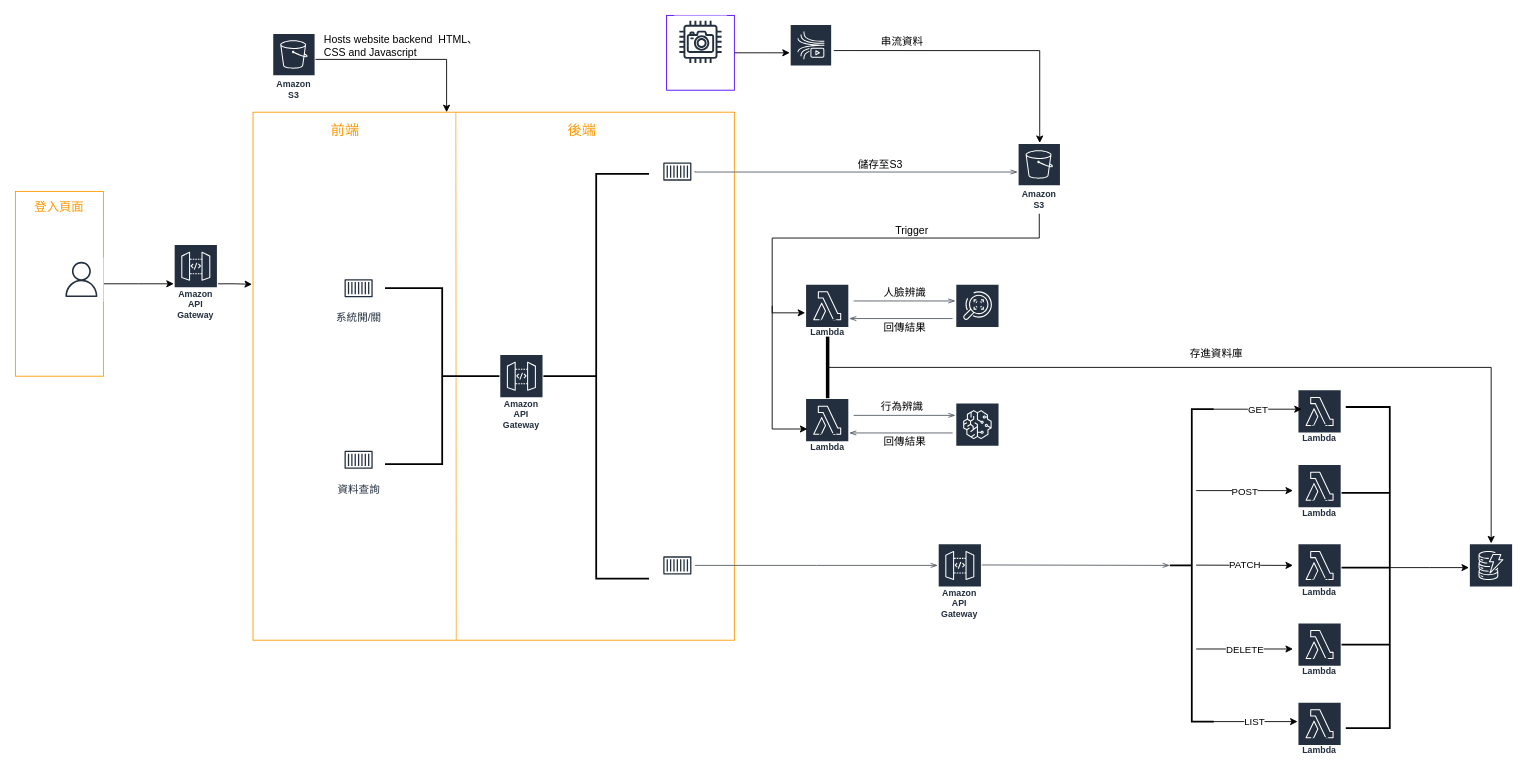
Image size: 1530x774. Some labels were removed from this diagram. Each missing label, with the centre of its shape:
Admin: point (81, 279)
Amazon DynamoDB: point (1490, 583)
Amazon Kinesis Video Streams: point (810, 63)
Amazon Rekognition: point (977, 318)
Amazon SageMaker: point (977, 442)
Camera: point (700, 41)
上傳照片、影片: point (677, 171)
管理資料庫: point (677, 565)
